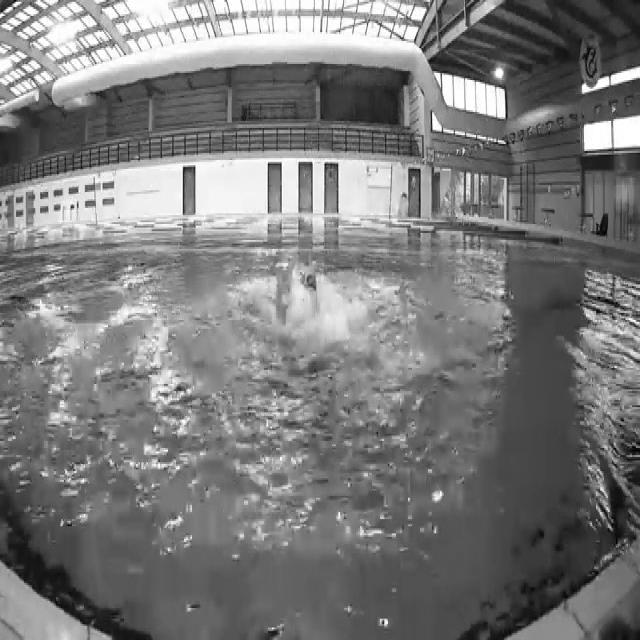Drowning: (253, 222, 359, 398)
